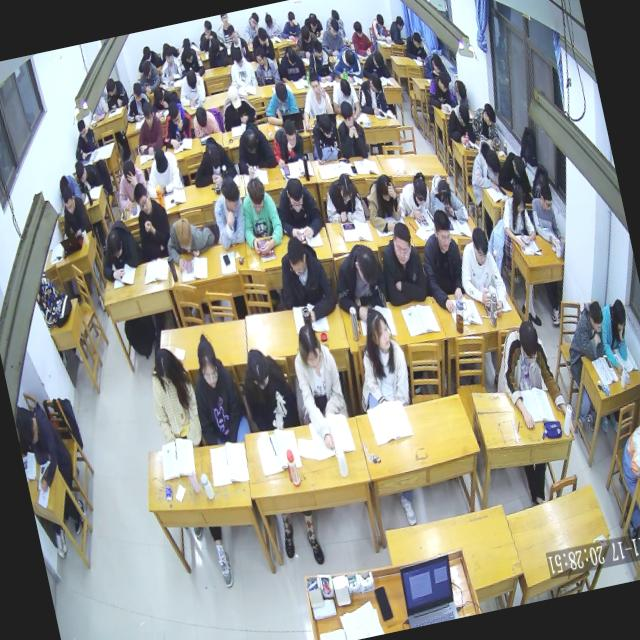bow: (91, 214, 146, 282), (161, 210, 220, 270), (185, 130, 238, 188), (422, 168, 469, 230), (259, 79, 302, 127), (492, 145, 531, 192), (327, 42, 364, 85), (357, 46, 392, 84), (147, 82, 181, 119), (72, 156, 106, 192), (418, 49, 451, 86), (188, 100, 220, 138), (203, 33, 231, 69)
down: (350, 240, 382, 286), (194, 338, 222, 390), (515, 318, 544, 367), (294, 320, 324, 367), (150, 343, 178, 388), (245, 346, 272, 392), (282, 233, 310, 277), (14, 408, 40, 448), (244, 174, 269, 212), (283, 174, 307, 212), (468, 224, 491, 262), (172, 212, 194, 250), (130, 181, 153, 216), (609, 294, 629, 332), (408, 172, 429, 206), (333, 172, 355, 204), (586, 297, 606, 332), (434, 174, 454, 208), (202, 138, 222, 170), (104, 230, 125, 260), (119, 153, 138, 184), (536, 178, 554, 210), (152, 145, 171, 175), (376, 172, 395, 202), (316, 112, 336, 140), (338, 98, 356, 129), (280, 118, 298, 148), (59, 182, 76, 212), (165, 96, 182, 126), (511, 184, 528, 214), (225, 83, 243, 111), (485, 148, 502, 176), (366, 70, 384, 96), (511, 153, 528, 180), (481, 101, 498, 128), (140, 100, 156, 127), (274, 80, 290, 106), (410, 204, 428, 227), (456, 101, 472, 126), (452, 77, 467, 101), (370, 47, 386, 69), (73, 158, 87, 182), (130, 80, 144, 104), (230, 43, 244, 67), (430, 50, 444, 74), (326, 15, 341, 37), (193, 104, 208, 126), (436, 70, 451, 92), (338, 77, 352, 100), (151, 85, 166, 106), (284, 44, 298, 66), (310, 37, 324, 59), (184, 69, 198, 90), (342, 45, 356, 66), (139, 56, 152, 78), (298, 22, 311, 44), (255, 23, 268, 44), (76, 118, 88, 140), (180, 41, 192, 63), (225, 21, 237, 42), (352, 19, 364, 40), (200, 18, 213, 37), (140, 40, 152, 60), (262, 8, 274, 28), (411, 30, 423, 50), (248, 10, 260, 28), (306, 12, 318, 30), (393, 12, 405, 29), (285, 10, 296, 28), (374, 9, 385, 26)
lookup: (363, 304, 393, 352), (388, 218, 416, 264), (430, 205, 454, 251), (306, 67, 322, 97), (162, 44, 174, 64), (186, 94, 198, 108), (218, 13, 230, 27)
sit: (486, 310, 572, 430), (182, 328, 250, 444), (341, 301, 413, 409), (140, 340, 205, 452), (284, 319, 350, 426), (412, 204, 473, 318), (268, 230, 338, 327), (13, 399, 77, 496), (325, 236, 390, 330), (451, 223, 511, 323), (234, 340, 299, 432), (370, 216, 430, 307), (232, 171, 286, 258), (126, 178, 176, 263), (270, 168, 324, 243), (204, 172, 252, 252), (557, 300, 612, 366), (594, 294, 638, 375), (495, 181, 539, 253), (360, 170, 406, 236), (292, 66, 336, 132), (318, 167, 366, 225), (228, 116, 276, 174), (138, 141, 185, 199), (462, 136, 506, 197), (329, 97, 369, 163), (525, 177, 563, 245), (109, 154, 152, 214), (214, 78, 258, 130), (266, 116, 308, 170), (128, 97, 167, 154), (54, 180, 92, 237), (156, 96, 196, 150), (612, 412, 640, 489), (304, 107, 342, 163), (394, 170, 434, 223), (467, 99, 502, 151), (352, 68, 389, 117), (327, 72, 362, 122), (222, 40, 257, 89), (302, 38, 336, 86), (442, 98, 476, 146), (173, 66, 209, 110), (424, 68, 458, 114), (120, 80, 154, 124), (67, 115, 99, 160), (250, 43, 282, 87), (222, 18, 252, 61), (274, 40, 306, 80), (290, 21, 322, 61), (316, 14, 346, 56), (346, 16, 376, 58), (173, 37, 204, 77), (100, 72, 130, 110), (155, 44, 184, 83), (248, 22, 276, 61), (401, 28, 429, 66), (132, 41, 164, 74), (134, 56, 162, 92), (193, 18, 220, 54), (238, 10, 264, 46), (367, 8, 391, 46), (446, 71, 469, 110), (276, 8, 302, 42), (213, 13, 236, 50), (386, 13, 410, 46), (300, 7, 324, 38), (261, 8, 284, 38)
